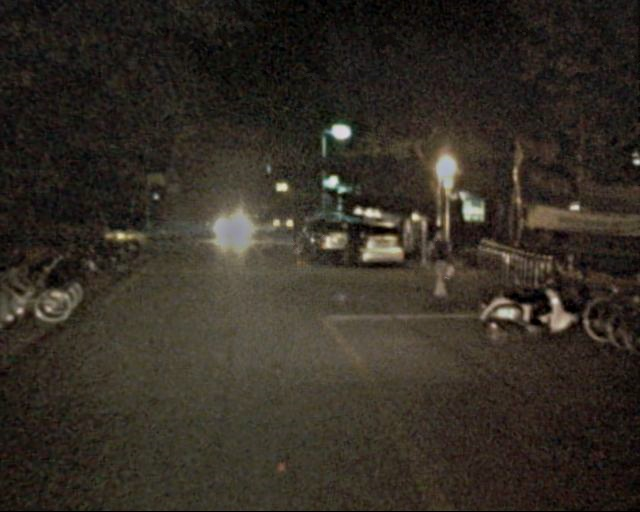person: (426, 228, 458, 305)
